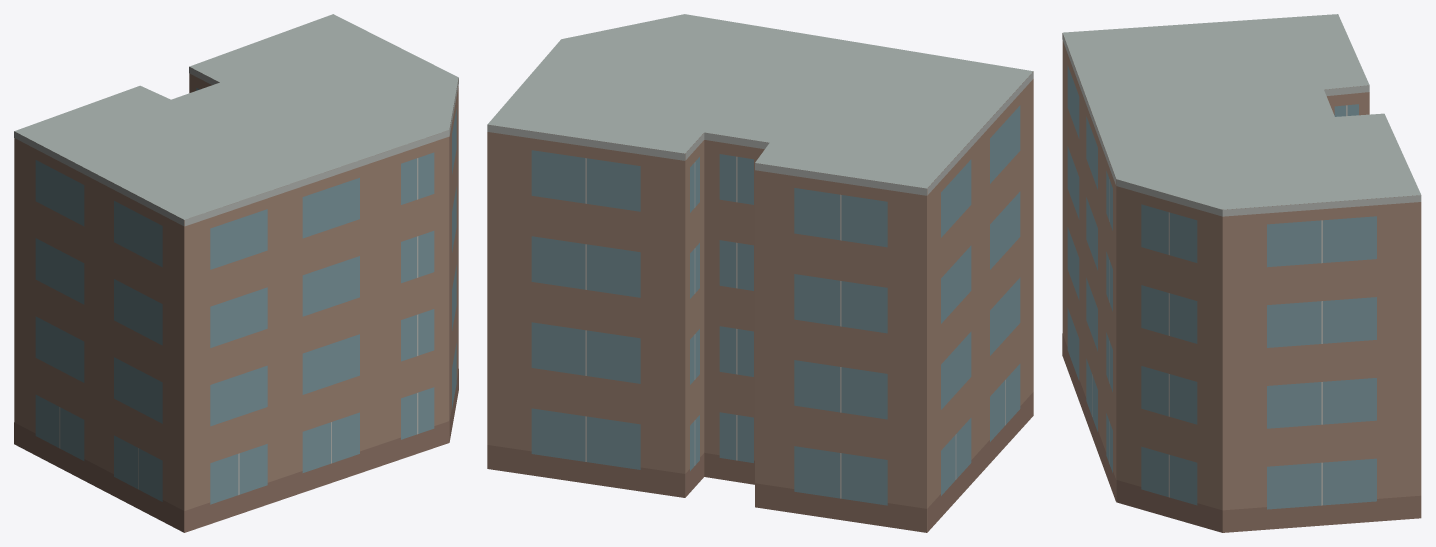
The model's file is survey-upis-33036282.glb.
The picture shows the model from 3 angles, left to right: view 1: azimuth 30°, elevation 25°; view 2: azimuth 150°, elevation 25°; view 3: azimuth 270°, elevation 25°; orthographic projection. The views are drawn at different scales.
Visible parts, largest first — view 1: survey-upis-33036282.tmp; view 2: survey-upis-33036282.tmp; view 3: survey-upis-33036282.tmp.
Boxes of the visible parts, left/top/right/bottom form: survey-upis-33036282.tmp: left=14, top=14, right=458, bottom=532; survey-upis-33036282.tmp: left=487, top=14, right=1033, bottom=532; survey-upis-33036282.tmp: left=1062, top=14, right=1421, bottom=532.
Bounding box in the file's own units: 14.95 × 11.5 × 11.59.
